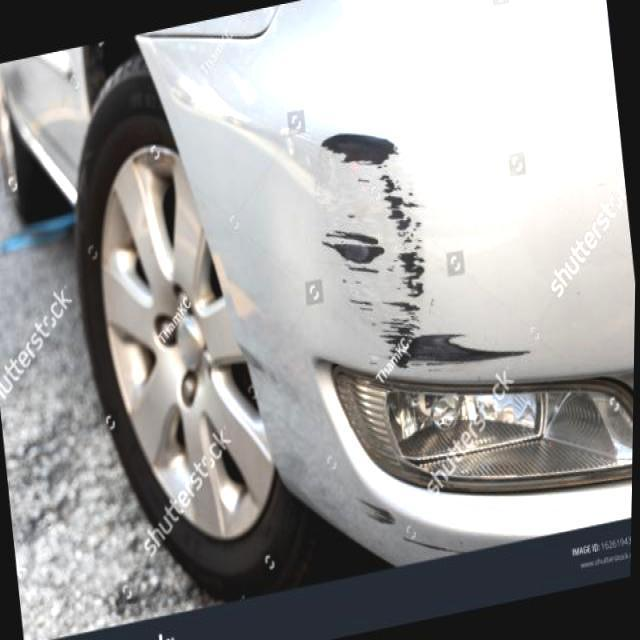minor: (240, 317, 291, 396)
moderate: (386, 181, 427, 344), (322, 229, 385, 331), (390, 337, 528, 371), (321, 133, 400, 179), (359, 500, 395, 527), (409, 536, 449, 552)
